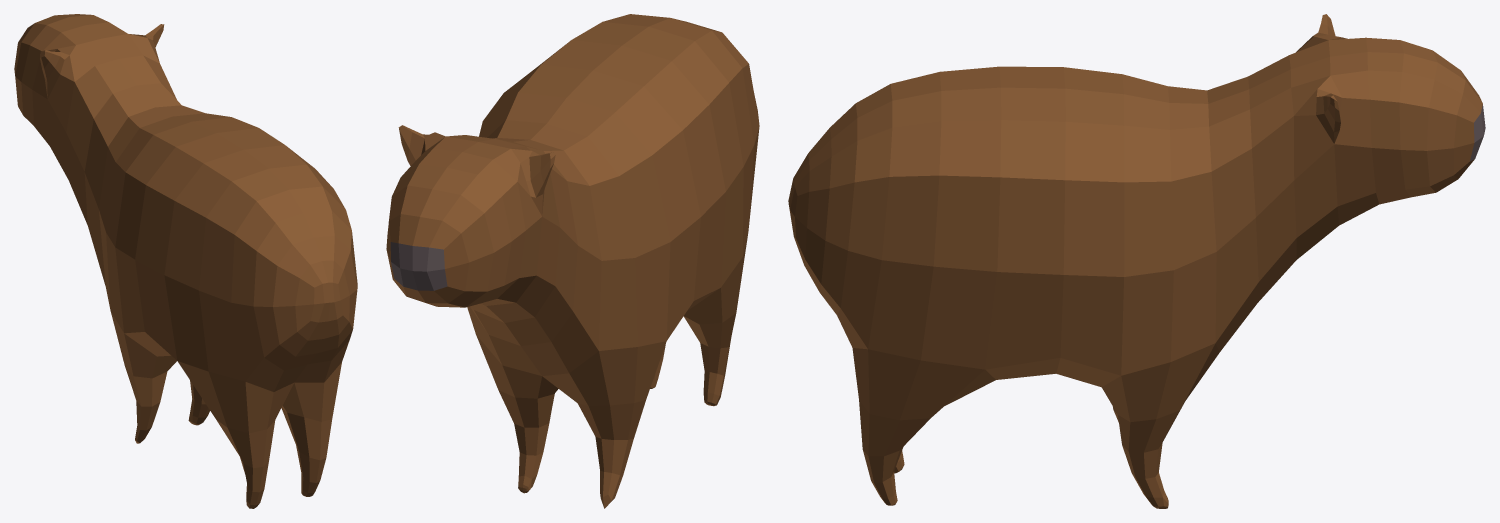
File: carpincho.fbx
3 views of the same model, side by side, from view 1: azimuth 30°, elevation 25°; view 2: azimuth 150°, elevation 25°; view 3: azimuth 270°, elevation 25° (orthographic). The views are drawn at different scales.
Parts seen in each view (by area): view 1: carpincho; view 2: carpincho; view 3: carpincho.
Part boxes in pixels (x1=…): carpincho: x1=14, y1=14, x2=357, y2=508; carpincho: x1=386, y1=14, x2=759, y2=508; carpincho: x1=788, y1=14, x2=1485, y2=508.
Size of the model in its own units: 3.32 by 6.59 by 9.42.
